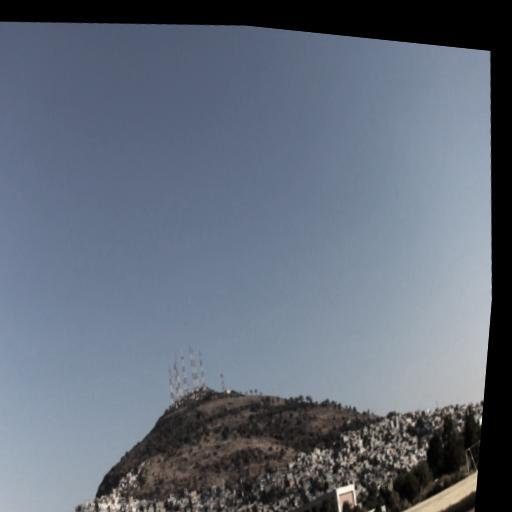drones: (193, 423, 195, 427)
